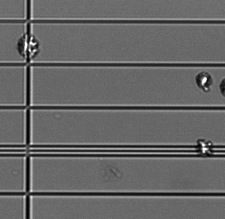Living Cell: (14, 33, 39, 59), (194, 69, 212, 89), (197, 137, 213, 159)
